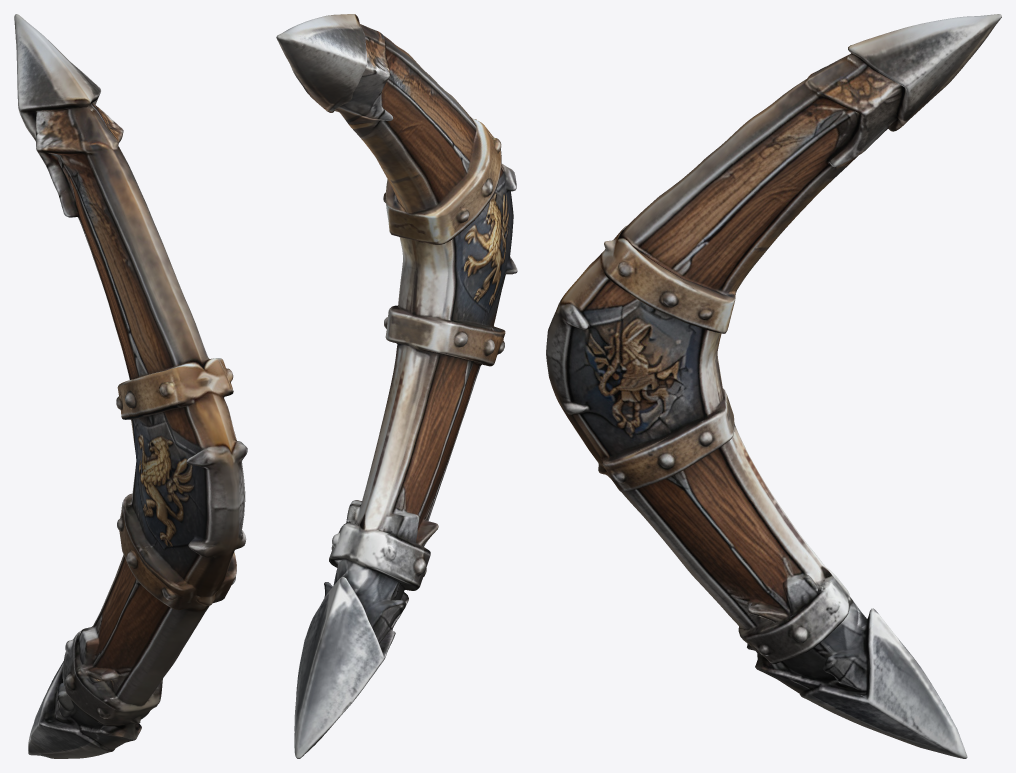
The model's file is wooden_boomerang.glb.
3 renders of one model, left to right at view 1: azimuth 30°, elevation 25°; view 2: azimuth 150°, elevation 25°; view 3: azimuth 270°, elevation 25°, orthographic. The views are drawn at different scales.
Parts seen in each view (by area): view 1: wooden_boomerang; view 2: wooden_boomerang; view 3: wooden_boomerang.
Boxes of the visible parts, left/top/right/bottom form: wooden_boomerang: left=14, top=14, right=247, bottom=758; wooden_boomerang: left=276, top=14, right=517, bottom=758; wooden_boomerang: left=546, top=14, right=1001, bottom=758.
Size of the model in its own units: 0.0844 by 0.5957 by 0.33.
Materials: 1 (1 with a texture image).
